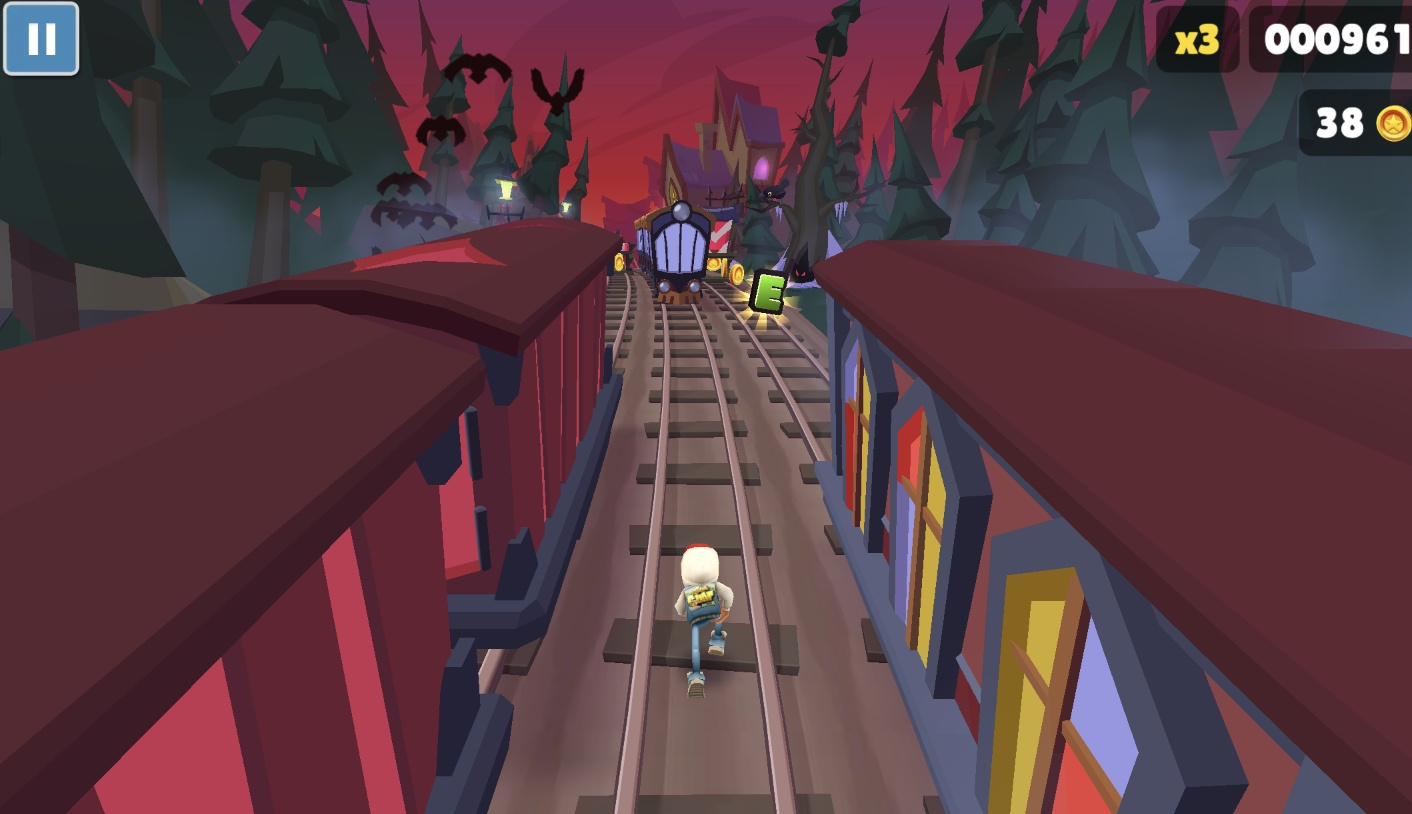ground_barrier: (614, 239, 638, 271)
overhead_barrier: (707, 211, 740, 286)
train: (0, 227, 609, 814), (867, 285, 1412, 814), (635, 200, 718, 312)
